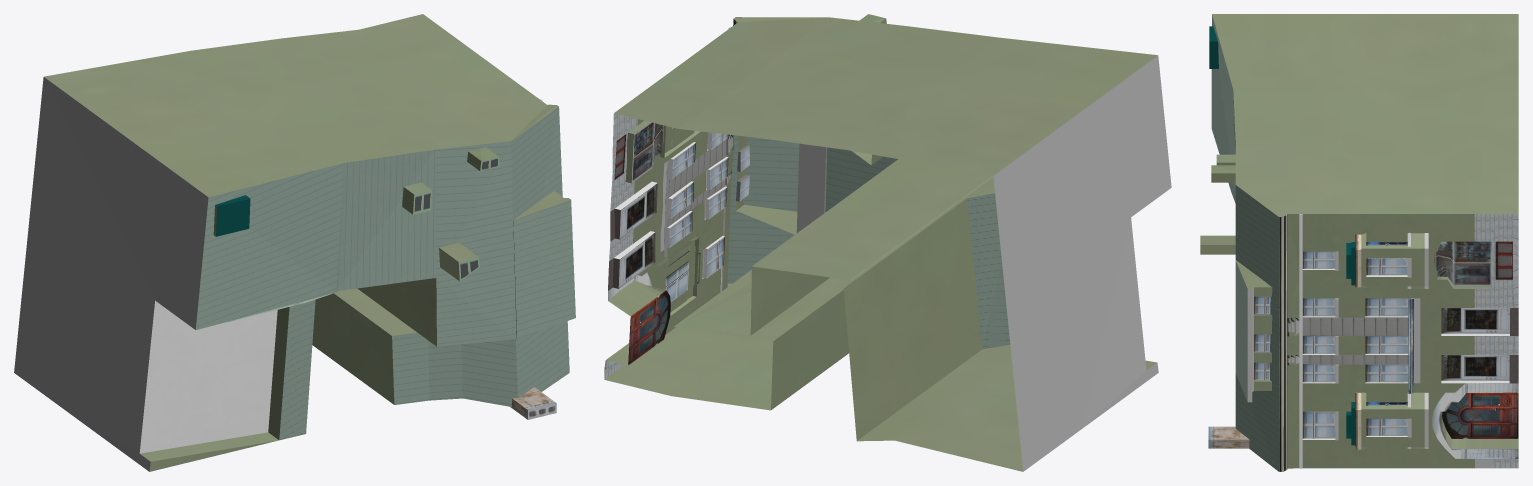
Rendered from Vana-Viru_7-origo.obj.
3 views of the same model, side by side, from view 1: azimuth 30°, elevation 25°; view 2: azimuth 150°, elevation 25°; view 3: azimuth 270°, elevation 25° (orthographic). The views are drawn at different scales.
Visible parts, largest first — view 1: Vana_Viru_7; view 2: Vana_Viru_7; view 3: Vana_Viru_7.
Part boxes in pixels (x1=…): Vana_Viru_7: x1=14, y1=14, x2=575, y2=471; Vana_Viru_7: x1=604, y1=14, x2=1171, y2=471; Vana_Viru_7: x1=1200, y1=14, x2=1518, y2=471.
Size of the model in its own units: 22.81 by 15 by 15.58.
